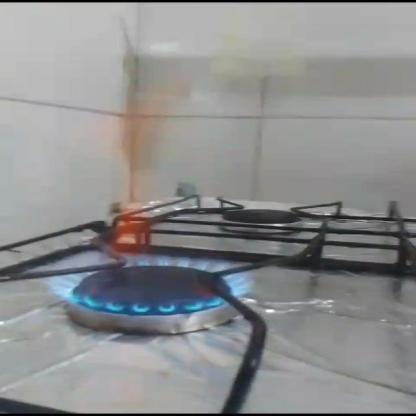fire: (41, 89, 257, 330)
